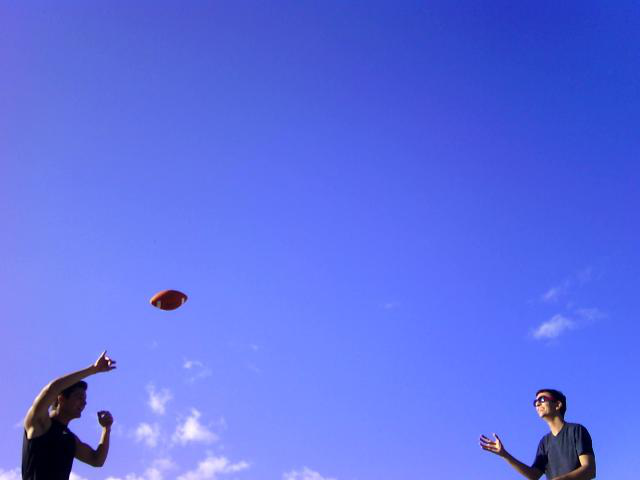football: (150, 289, 191, 309)
